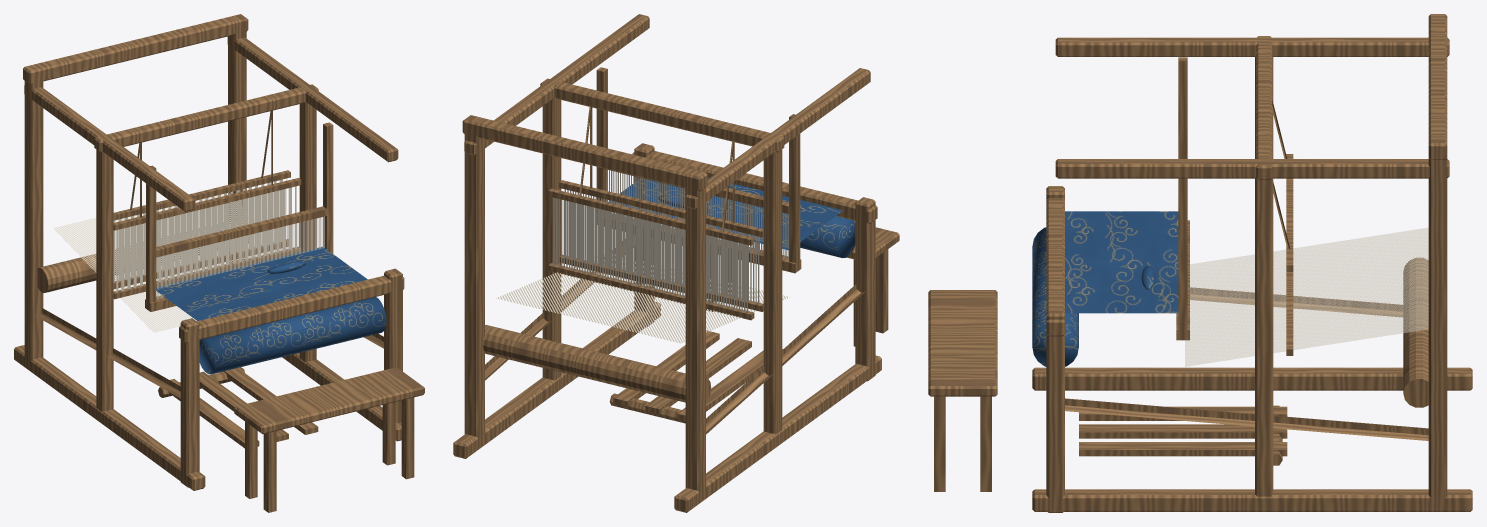
The model's file is loom.glb.
3 views of the same model, side by side, from view 1: azimuth 30°, elevation 25°; view 2: azimuth 150°, elevation 25°; view 3: azimuth 270°, elevation 25° (orthographic). The views are drawn at different scales.
Visible parts, largest first — view 1: LoomFrame, Heddles, WovenCloth, ClothRoll, Warp; view 2: LoomFrame, Heddles, Warp, WovenCloth, ClothRoll; view 3: LoomFrame, Warp, WovenCloth, ClothRoll.
Part boxes in pixels (bbox=[...]): LoomFrame: bbox=[14, 14, 424, 512]; Heddles: bbox=[113, 179, 324, 299]; WovenCloth: bbox=[156, 246, 367, 320]; ClothRoll: bbox=[199, 261, 386, 374]; Warp: bbox=[54, 192, 282, 332]; LoomFrame: bbox=[453, 14, 899, 512]; Heddles: bbox=[553, 169, 788, 312]; Warp: bbox=[496, 254, 789, 343]; WovenCloth: bbox=[608, 177, 843, 250]; ClothRoll: bbox=[658, 195, 855, 257]; LoomFrame: bbox=[928, 14, 1472, 512]; Warp: bbox=[1185, 227, 1428, 366]; WovenCloth: bbox=[1065, 211, 1178, 313]; ClothRoll: bbox=[1032, 227, 1155, 366].
Size of what is drawn, in the model's own units: 1.34 by 1.76 by 2.35.
3 materials, 3 textured.
